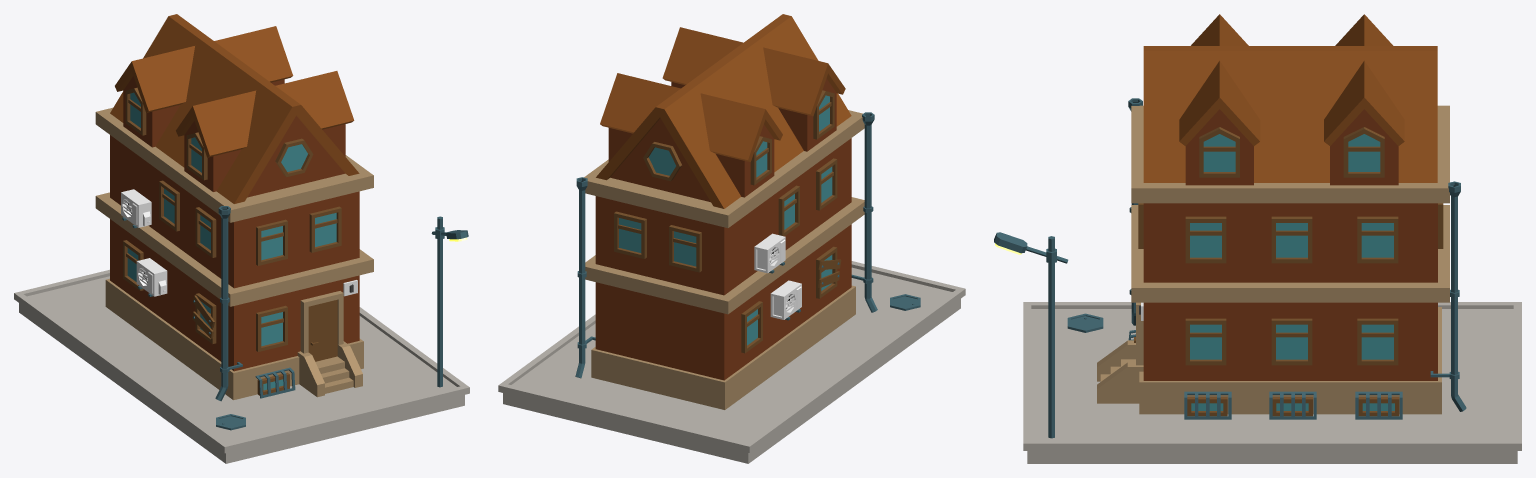
The picture shows the model from 3 angles, left to right: view 1: azimuth 30°, elevation 25°; view 2: azimuth 150°, elevation 25°; view 3: azimuth 270°, elevation 25°; orthographic projection. The views are drawn at different scales.
Parts seen in each view (by area): view 1: Plane091, Box15824, Box15826_roof1_0, Box15853, Rectangle022, Object300_roof1_0, Box15825, Object301_roof1_0, Box15829, Box15854, Object330_mirror_0, Box15826_wall2_0 (+19 smaller); view 2: Plane091, Box15853, Box15824, Box15826_roof1_0, Box15829, Rectangle022, Object301_roof1_0, Box15825, Object300_roof1_0, Box15854, Object330_mirror_0, Box15826_wall2_0 (+15 smaller); view 3: Plane091, Box15826_roof1_0, Box15824, Box15853, Rectangle022, Object330_mirror_0, Box15825, Box15854, Box15829, Object300_roof1_0, Object301_roof1_0, StraightStair011 (+16 smaller).
Part boxes in pixels (x1,y1,x2,y2): Plane091: (19,276,464,463); Box15824: (110,135,359,288); Box15826_roof1_0: (110,14,359,203); Box15853: (110,219,359,371); Rectangle022: (14,269,469,453); Object300_roof1_0: (176,71,354,157); Box15825: (95,107,373,222); Object301_roof1_0: (115,26,293,112); Box15829: (105,278,363,400); Box15854: (95,192,373,306); Object330_mirror_0: (127,92,336,390); Box15826_wall2_0: (247,115,344,197); Plane091: (503,267,960,463); Box15853: (595,224,851,380); Box15824: (595,138,851,295); Box15826_roof1_0: (596,14,851,208); Box15829: (591,285,855,409); Rectangle022: (498,261,965,452); Object301_roof1_0: (600,73,782,162); Box15825: (584,110,864,227); Object300_roof1_0: (662,27,845,116); Box15854: (585,197,864,314); Object330_mirror_0: (619,95,832,345); Box15826_wall2_0: (610,118,710,202); Plane091: (1027,309,1517,463); Box15826_roof1_0: (1143,46,1437,182); Box15824: (1143,203,1437,282); Box15853: (1143,302,1437,380); Rectangle022: (1023,302,1521,450); Object330_mirror_0: (1190,134,1394,410); Box15825: (1131,105,1449,203); Box15854: (1131,205,1449,302); Box15829: (1139,307,1441,414); Object300_roof1_0: (1179,14,1260,145); Object301_roof1_0: (1324,14,1404,145); StraightStair011: (1097,340,1143,403).
Bounding box in the file's own units: 8.2 × 9.36 × 12.91.
